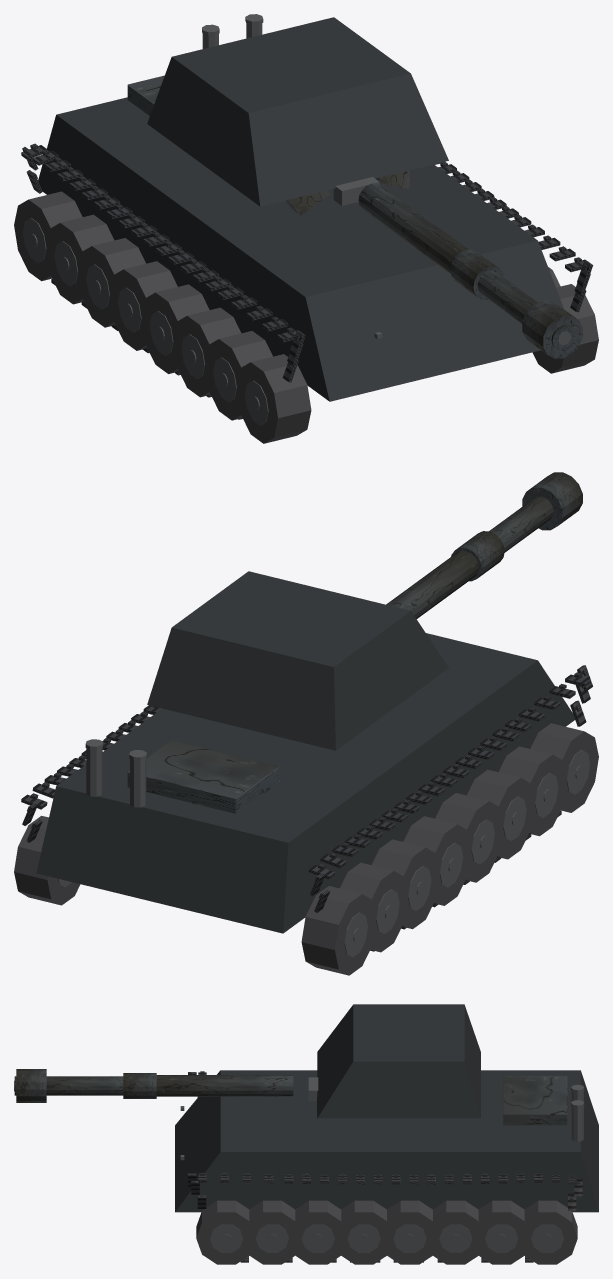
The model's file is colossus_LOD1.glb.
3 renders of one model, top to bottom at view 1: azimuth 30°, elevation 25°; view 2: azimuth 150°, elevation 25°; view 3: azimuth 270°, elevation 25°, orthographic. The views are drawn at different scales.
Visible parts, largest first — view 1: HullMesh, TurretMesh, Wheels_L, TrackL, Gun_tube1, TrackR, Wheels_R, Gun_brk, Gun_tube2, Gun_ext; view 2: HullMesh, TurretMesh, Wheels_L, TrackL, Gun_tube1, Wheels_R, TrackR, Gun_brk, Gun_tube2, Gun_ext, exh-1, exh1; view 3: HullMesh, Wheels_R, TurretMesh, Gun_tube1, TrackR, Gun_tube2, Gun_brk, Gun_ext, exh1.
Part boxes in pixels (left/top/right/bottom): HullMesh: left=38, top=75, right=563, bottom=401; TurretMesh: left=147, top=17, right=448, bottom=215; Wheels_L: left=14, top=191, right=311, bottom=443; TrackL: left=21, top=143, right=305, bottom=419; Gun_tube1: left=358, top=183, right=467, bottom=273; TrackR: left=434, top=161, right=593, bottom=312; Wheels_R: left=532, top=267, right=598, bottom=373; Gun_brk: left=522, top=300, right=582, bottom=358; Gun_tube2: left=477, top=271, right=575, bottom=350; Gun_ext: left=450, top=249, right=504, bottom=299; HullMesh: left=36, top=633, right=574, bottom=933; TurretMesh: left=147, top=571, right=448, bottom=750; Wheels_L: left=301, top=723, right=598, bottom=975; TrackL: left=308, top=665, right=592, bottom=951; Gun_tube1: left=386, top=551, right=478, bottom=618; Wheels_R: left=14, top=815, right=80, bottom=905; TrackR: left=21, top=705, right=161, bottom=842; Gun_brk: left=522, top=472, right=582, bottom=530; Gun_tube2: left=489, top=496, right=553, bottom=552; Gun_ext: left=451, top=531, right=504, bottom=581; exh-1: left=130, top=759, right=146, bottom=807; exh1: left=86, top=748, right=102, bottom=796; HullMesh: left=175, top=1070, right=598, bottom=1212; Wheels_R: left=196, top=1200, right=577, bottom=1264; TurretMesh: left=308, top=1004, right=480, bottom=1118; Gun_tube1: left=156, top=1075, right=293, bottom=1096; TrackR: left=188, top=1172, right=582, bottom=1262; Gun_tube2: left=14, top=1076, right=123, bottom=1095; Gun_brk: left=16, top=1069, right=46, bottom=1102; Gun_ext: left=123, top=1073, right=156, bottom=1098; exh1: left=571, top=1106, right=583, bottom=1141.
Bounding box in the file's own units: 4.47 × 3.2 × 9.66.
5 materials, 3 textured.
